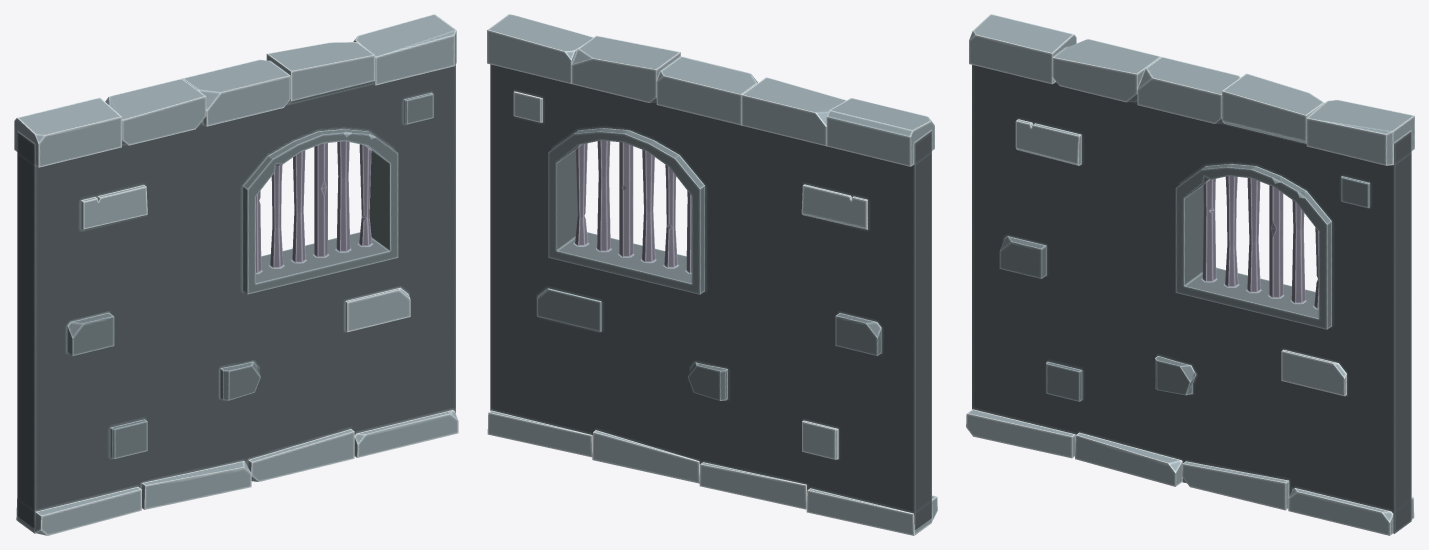
Rendered from wall.glb.
The picture shows the model from 3 angles, left to right: view 1: azimuth 30°, elevation 25°; view 2: azimuth 150°, elevation 25°; view 3: azimuth 330°, elevation 25°; orthographic projection.
Parts seen in each view (by area): view 1: Wall 3; view 2: Wall 3; view 3: Wall 3.
Boxes of the visible parts, bbox=[...] form: Wall 3: bbox=[14, 14, 458, 535]; Wall 3: bbox=[487, 14, 937, 535]; Wall 3: bbox=[966, 14, 1414, 535].
Size of the model in its own units: 2 by 1.83 by 0.2394.
Materials: 1 (1 with a texture image).
